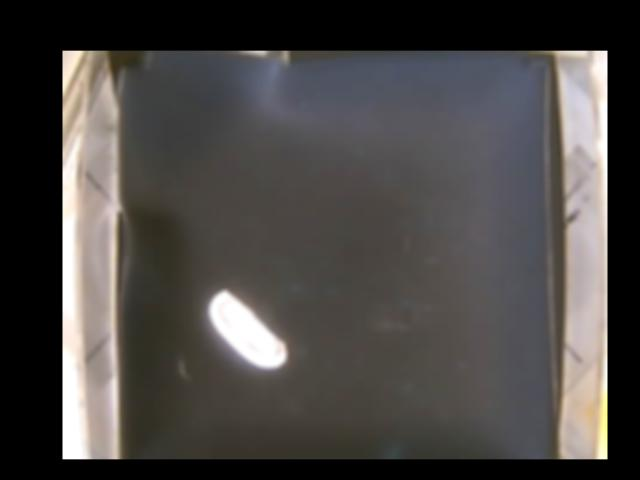Pebble: (207, 288, 288, 366)
